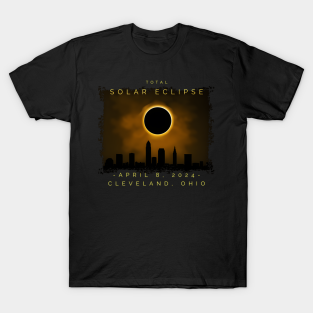design: (96, 78, 217, 188)
